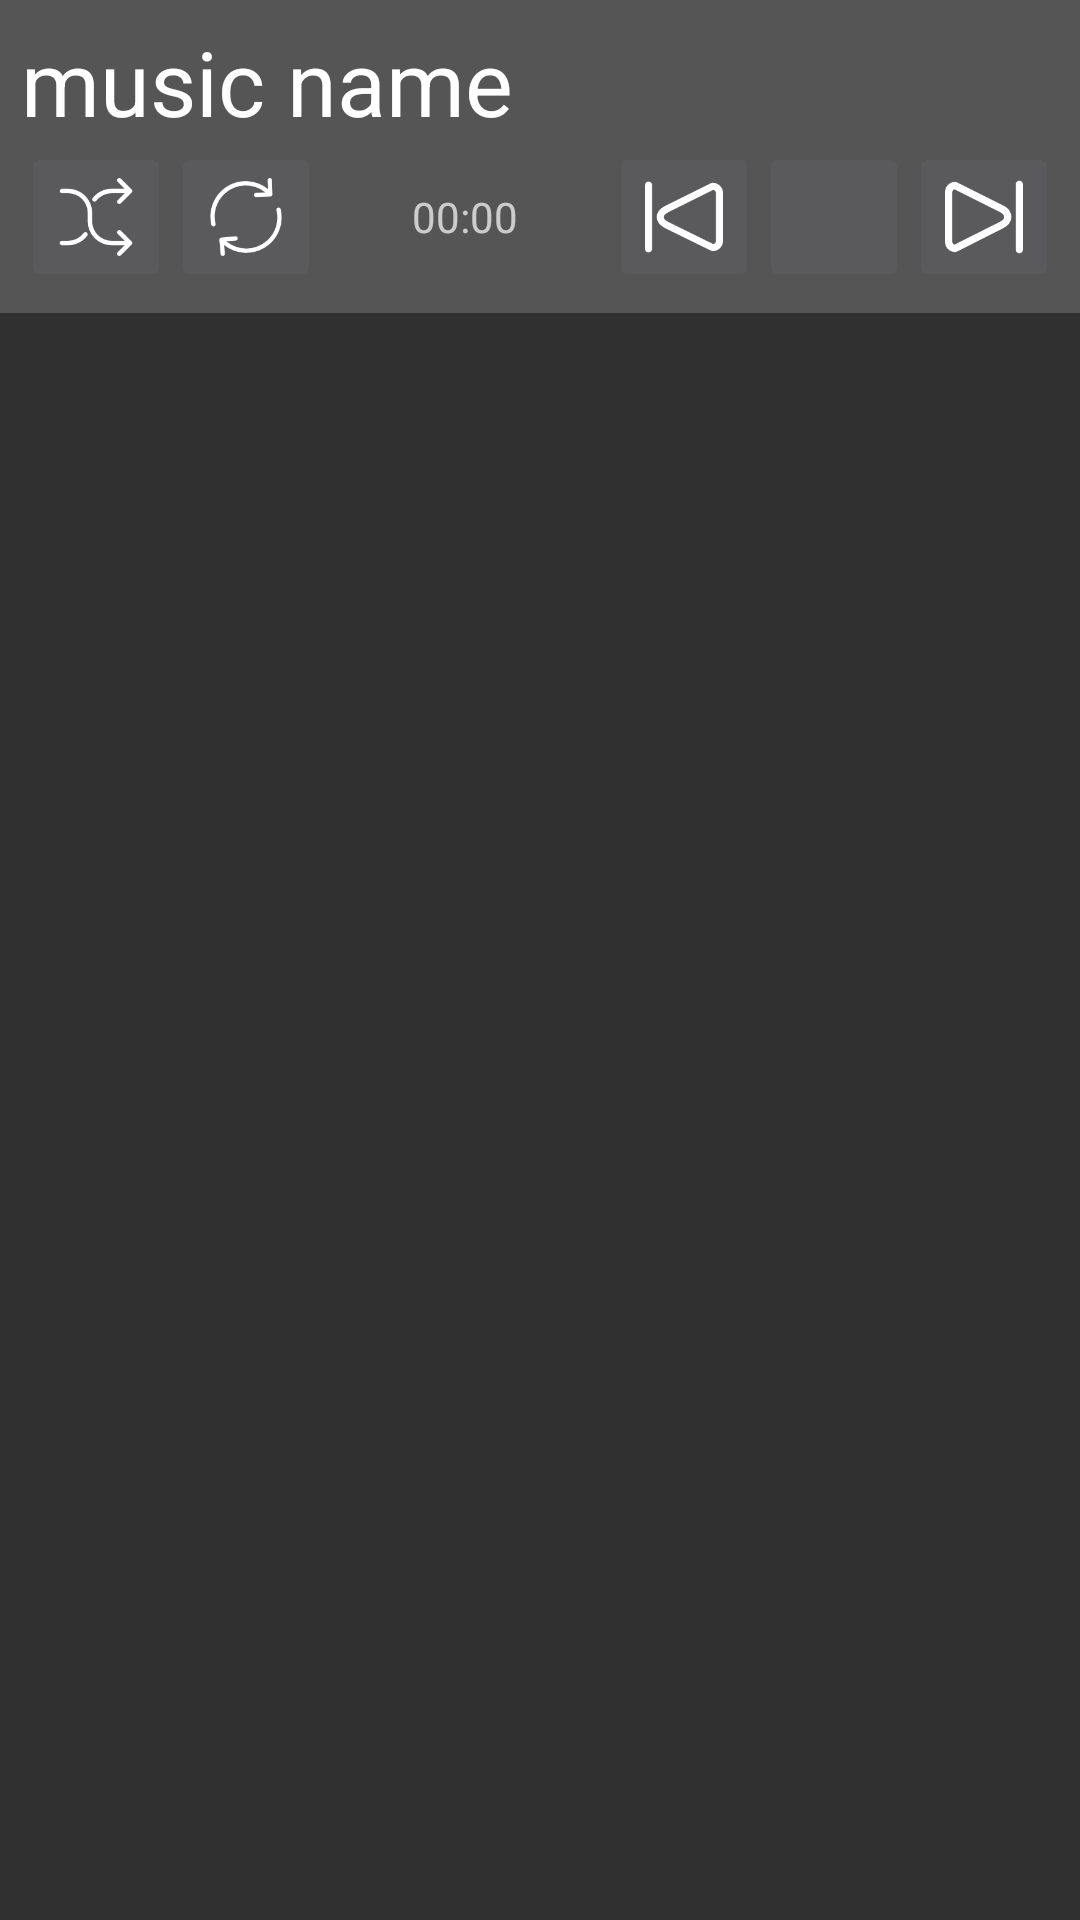

Named icons in this screenshot (1080px×1920px) and their bounding boxes, bbox(x1, y1, x2, y2):
next: bbox(945, 180, 1023, 254)
previous: bbox(645, 181, 723, 253)
random: bbox(59, 178, 133, 256)
repeat: bbox(210, 178, 282, 256)
